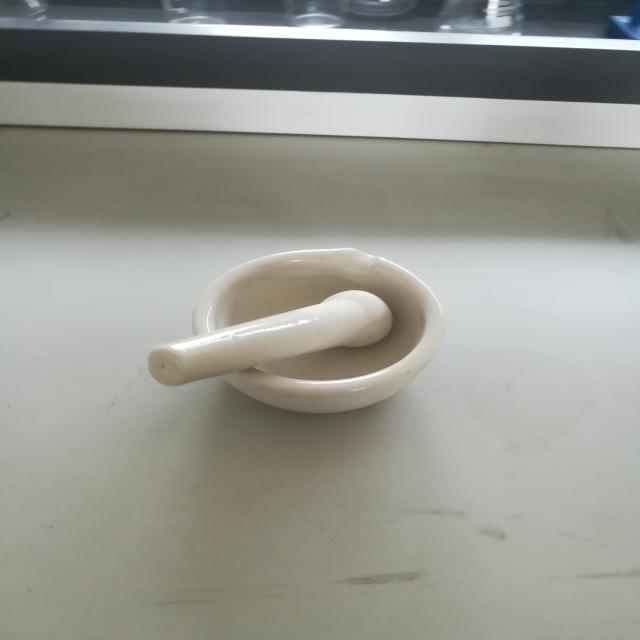Porcelain_Mortar Pestle: (130, 202, 470, 483)
